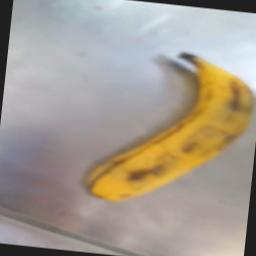Banana Overripe: (69, 32, 256, 223)
